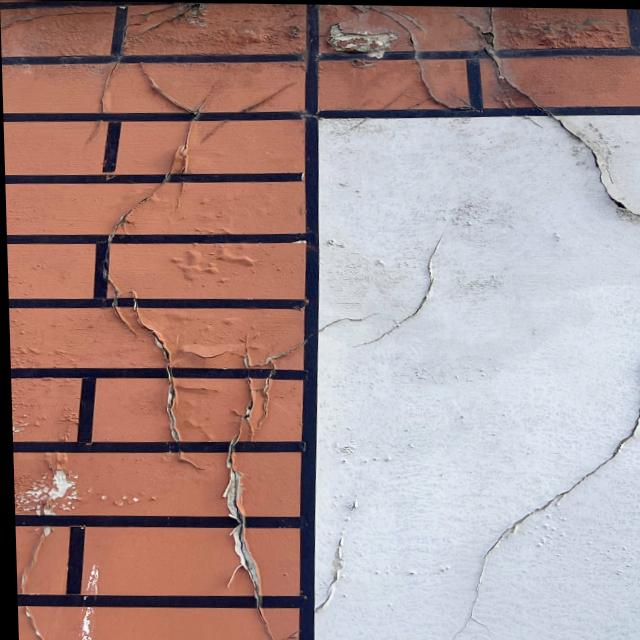crack: (73, 61, 294, 640), (426, 359, 640, 636), (355, 14, 582, 112), (537, 117, 640, 224), (366, 241, 462, 355)
